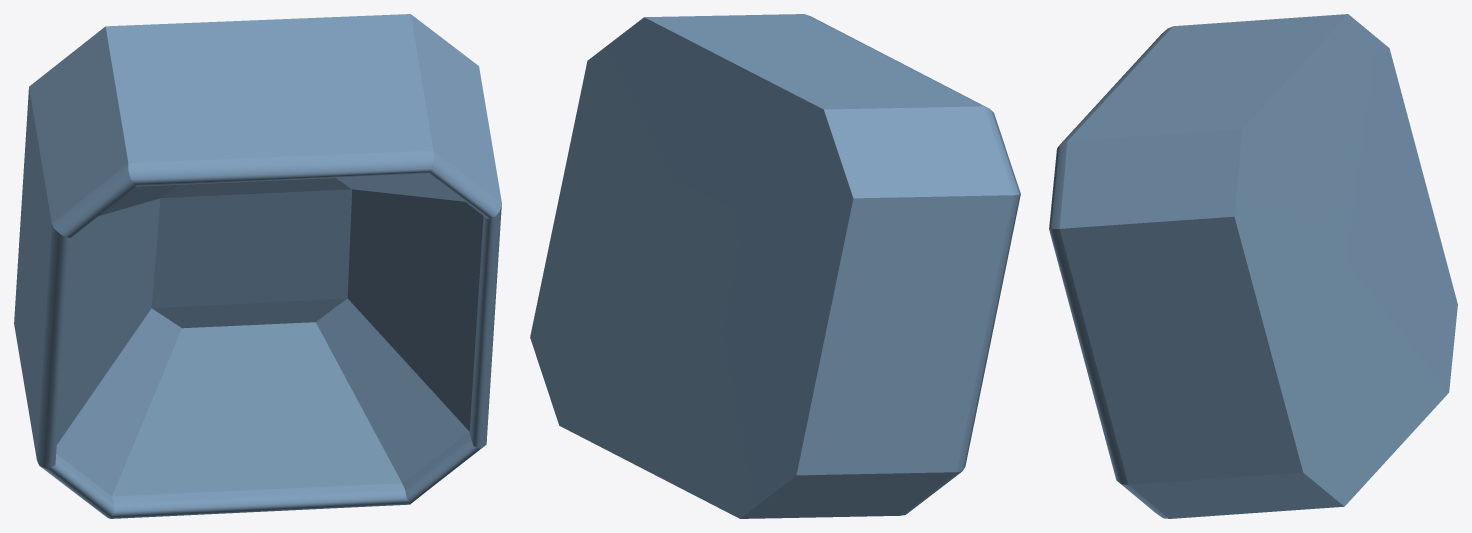
Rendered from BL2_8shapes_Square_Classic_Metal.001 2.glb.
The picture shows the model from 3 angles, left to right: view 1: azimuth 30°, elevation 25°; view 2: azimuth 150°, elevation 25°; view 3: azimuth 270°, elevation 25°; orthographic projection. The views are drawn at different scales.
Parts seen in each view (by area): view 1: BL2_8shapes_Square_Classic_Metal.001; view 2: BL2_8shapes_Square_Classic_Metal.001; view 3: BL2_8shapes_Square_Classic_Metal.001.
Part boxes in pixels (x1,y1,x2,y2): BL2_8shapes_Square_Classic_Metal.001: (14,14,501,518); BL2_8shapes_Square_Classic_Metal.001: (530,14,1020,518); BL2_8shapes_Square_Classic_Metal.001: (1049,14,1457,518).
Size of the model in its own units: 0.4853 by 0.4543 by 0.4073.
